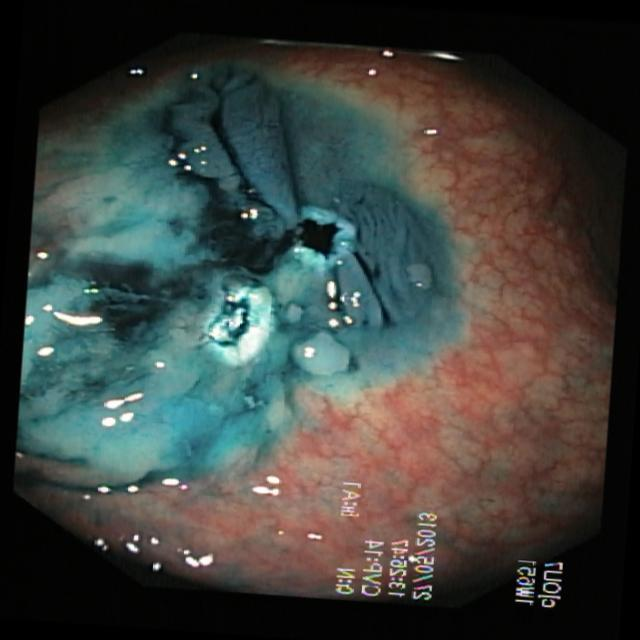dyed-resection-margins: (23, 58, 450, 512)
